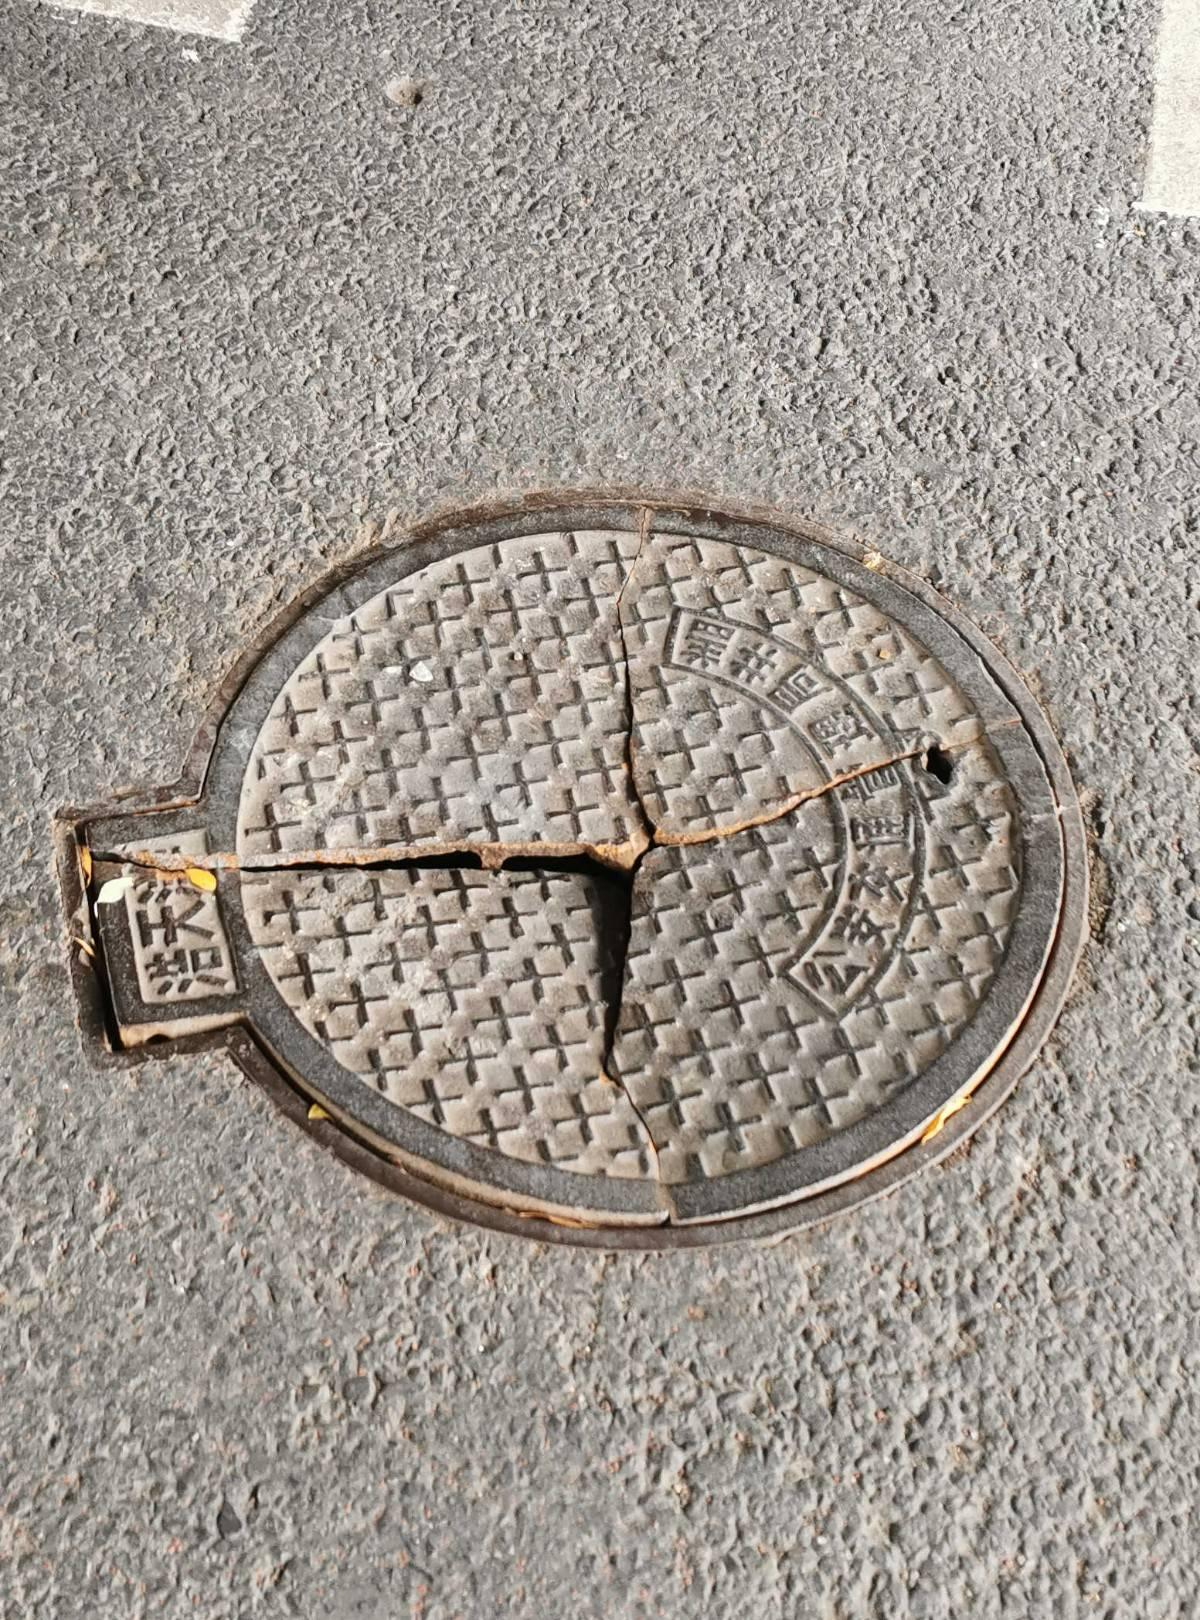wellcover: (44, 472, 1108, 1278)
